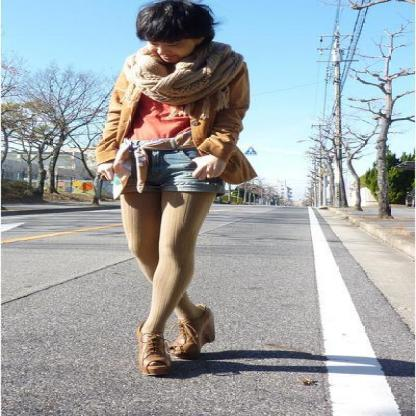jacket: (99, 64, 257, 184)
shirt: (124, 92, 206, 143)
shoe: (101, 132, 223, 367)
